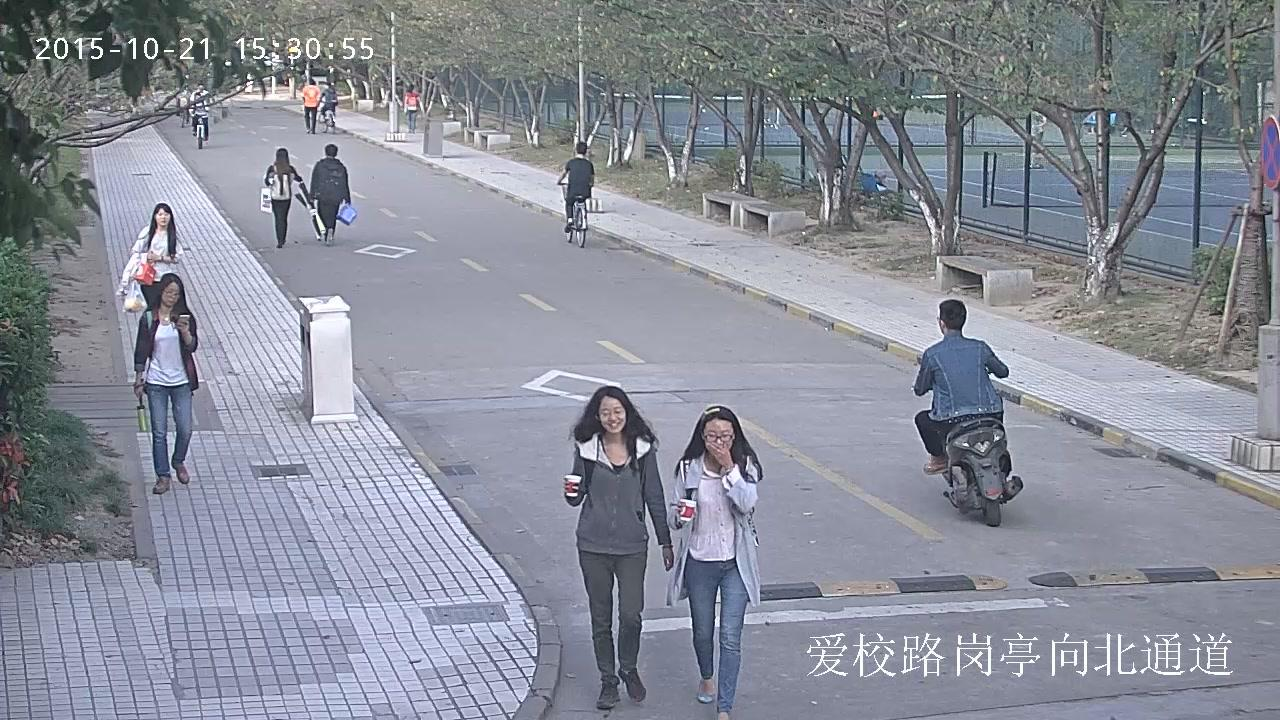face: (703, 418, 732, 455), (600, 395, 626, 432), (161, 281, 181, 305), (155, 207, 171, 224), (937, 313, 942, 332), (197, 84, 203, 92), (194, 94, 199, 99), (324, 84, 328, 88)
